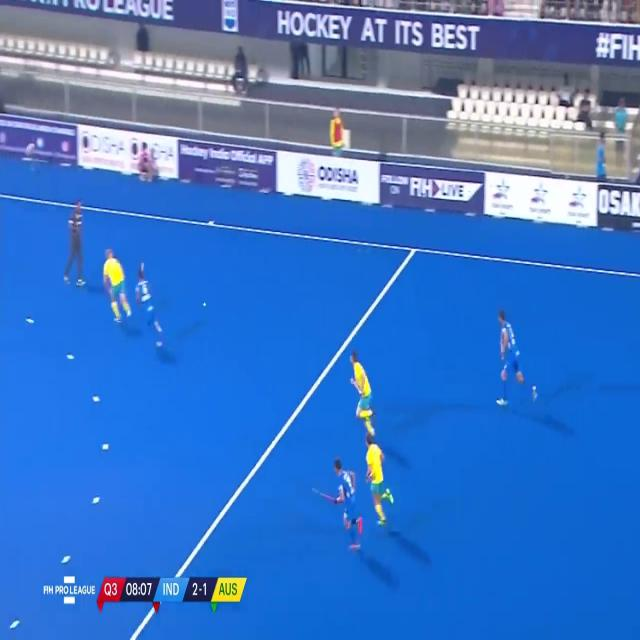ball: (200, 299, 208, 309)
